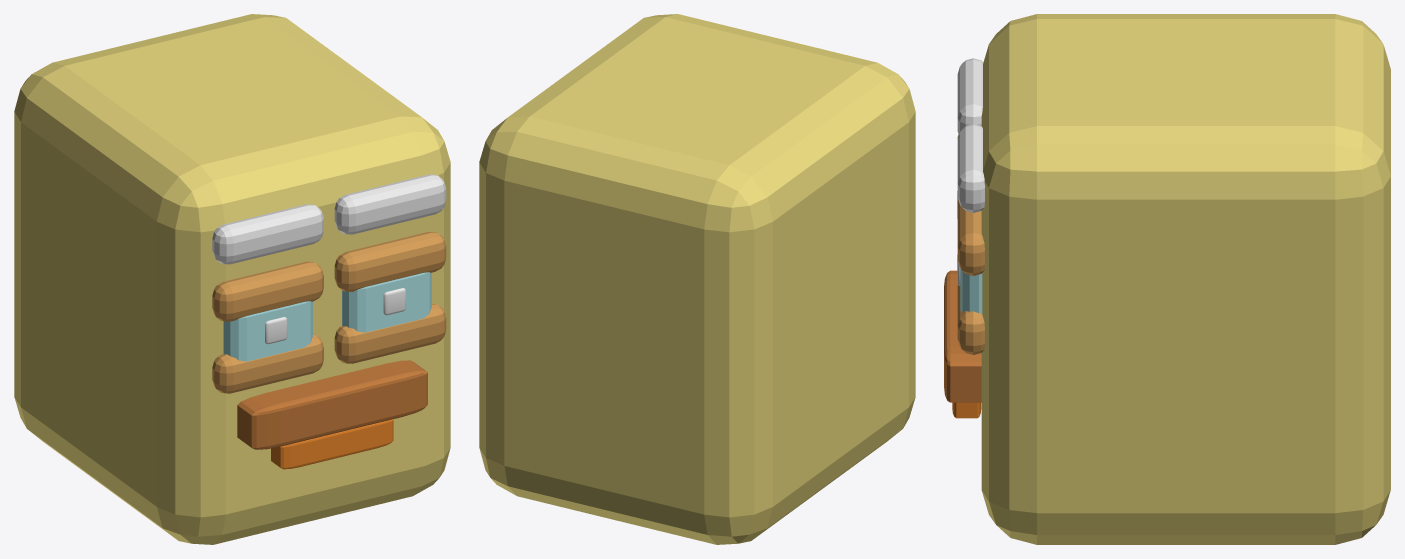
3 renders of one model, left to right at view 1: azimuth 30°, elevation 25°; view 2: azimuth 150°, elevation 25°; view 3: azimuth 270°, elevation 25°, orthographic. The views are drawn at different scales.
Parts seen in each view (by area): view 1: Cube; view 2: Cube; view 3: Cube.
Boxes of the visible parts, bbox=[...] form: Cube: bbox=[14, 14, 450, 544]; Cube: bbox=[479, 14, 915, 544]; Cube: bbox=[944, 14, 1390, 544].
Bounding box in the file's own units: 1.12 × 1.4 × 1.37.
